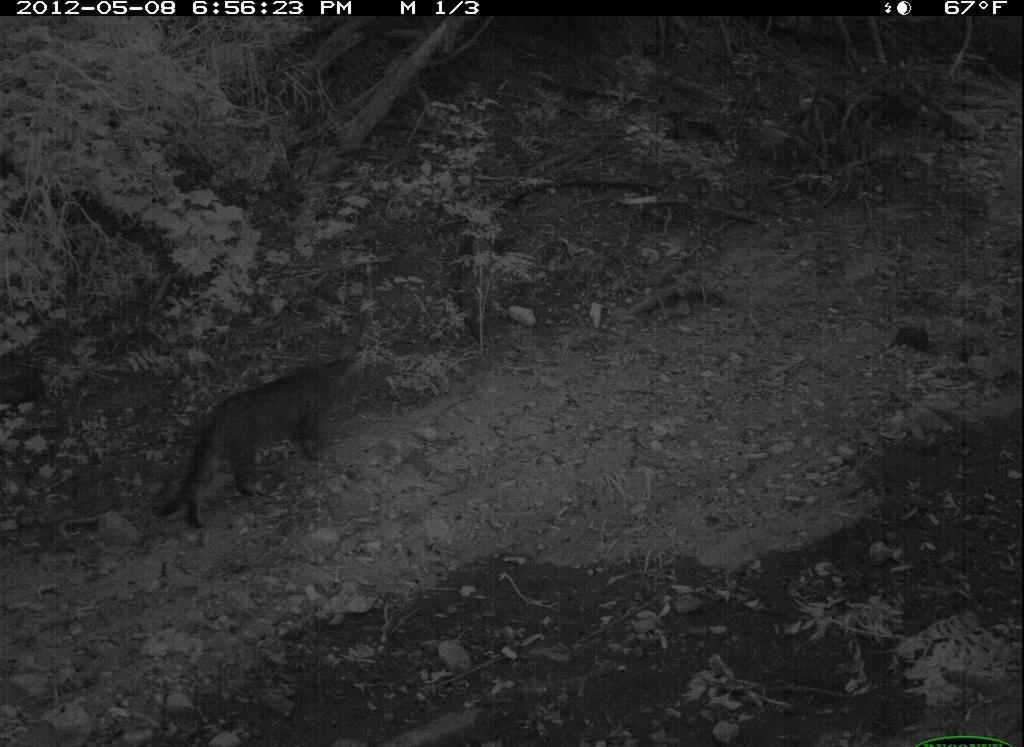cat: (143, 358, 356, 535)
